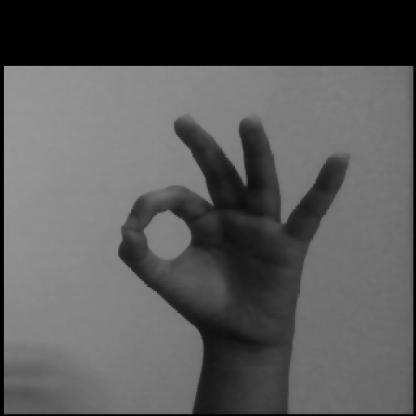ok: (99, 101, 355, 362)
